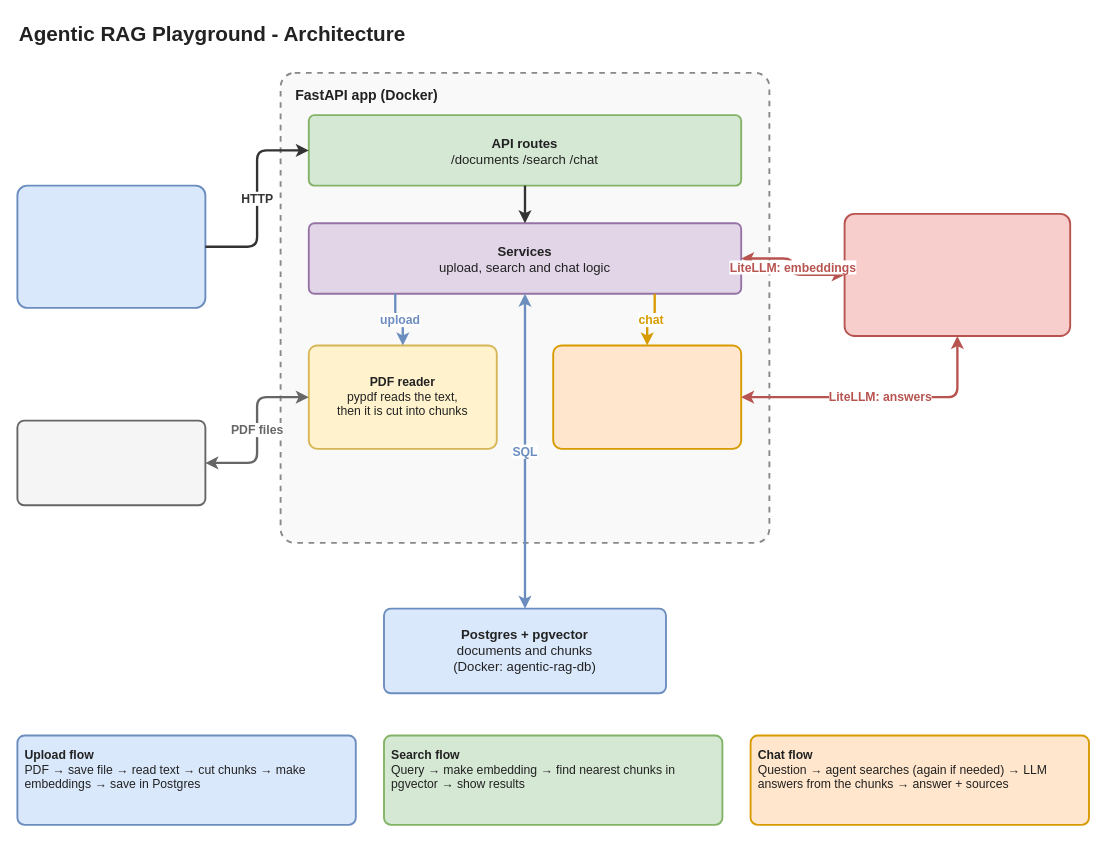
Some shapes in this 1105 by 841 pixel diagram are drawn without their labels. Each missing label, with the centre of its shape:
Browser Web UI Documents, Search, Chat: (x=111, y=246)
Chat agent asks the LLM and searches again if needed: (x=647, y=396)
data/uploads/ saved PDF files: (x=111, y=462)
OpenAI or any LiteLLM provider embeddings + chat: (x=957, y=274)
